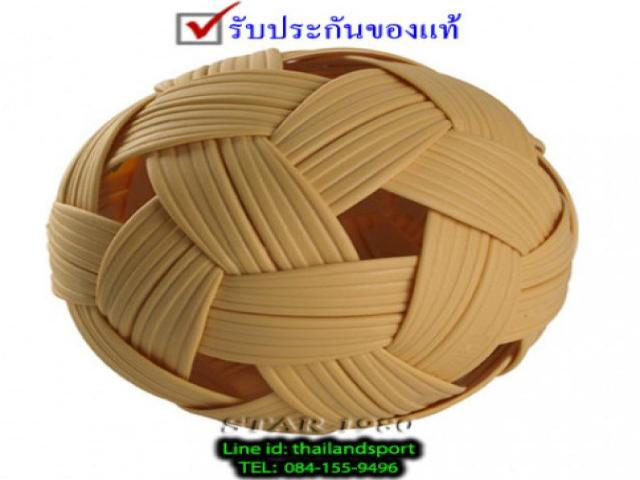round ball: (49, 49, 576, 433)
